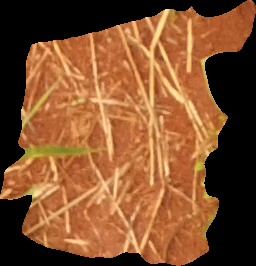soil: (3, 3, 256, 264)
